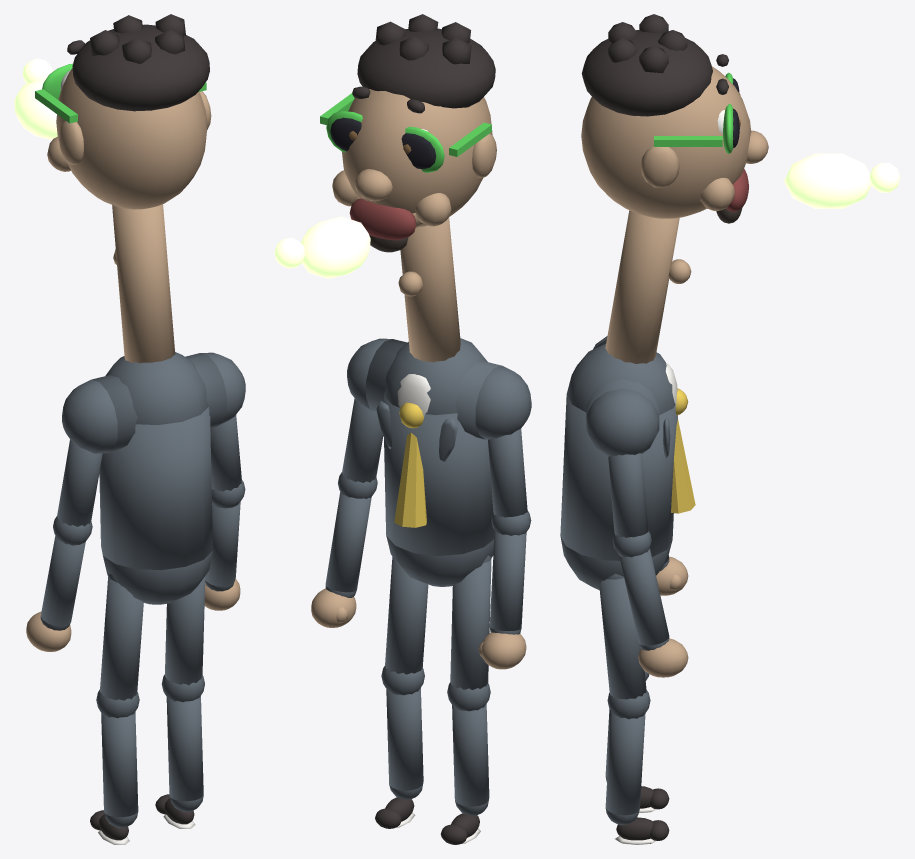
File: P2_Niko.fbx
3 views of the same model, side by side, from view 1: azimuth 30°, elevation 25°; view 2: azimuth 150°, elevation 25°; view 3: azimuth 270°, elevation 25° (orthographic).
Visible parts, largest first — view 1: Torso, Head, LegL, LegR, Neck, ArmL, ArmR, BadBreath; view 2: Head, Torso, LegL, LegR, ArmL, ArmR, Neck, BadBreath; view 3: Head, Torso, LegR, Neck, ArmR, BadBreath, ArmL, LegL.
Part boxes in pixels (x1,y1,x2,y2): Torso: (62, 352, 245, 604); Head: (35, 14, 211, 209); LegL: (90, 574, 143, 844); LegR: (155, 576, 205, 828); Neck: (112, 204, 175, 363); ArmL: (26, 439, 102, 651); ArmR: (204, 415, 245, 610); BadBreath: (14, 58, 57, 140); Head: (320, 14, 496, 252); Torso: (347, 338, 531, 586); LegL: (440, 555, 491, 844); LegR: (375, 556, 428, 828); ArmL: (478, 428, 531, 669); ArmR: (311, 398, 383, 627); Neck: (398, 217, 460, 362); BadBreath: (274, 216, 370, 279); Head: (581, 14, 768, 223); Torso: (560, 336, 695, 590); LegR: (599, 573, 669, 844); Neck: (605, 210, 691, 363); ArmR: (608, 453, 688, 677); BadBreath: (784, 153, 900, 208); ArmL: (656, 555, 688, 595); LegL: (605, 671, 669, 812).
Bounding box in the file's own units: 76 × 281 × 109.
